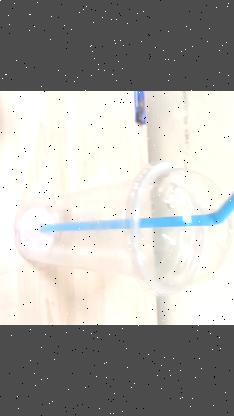Others: (13, 162, 234, 294)
